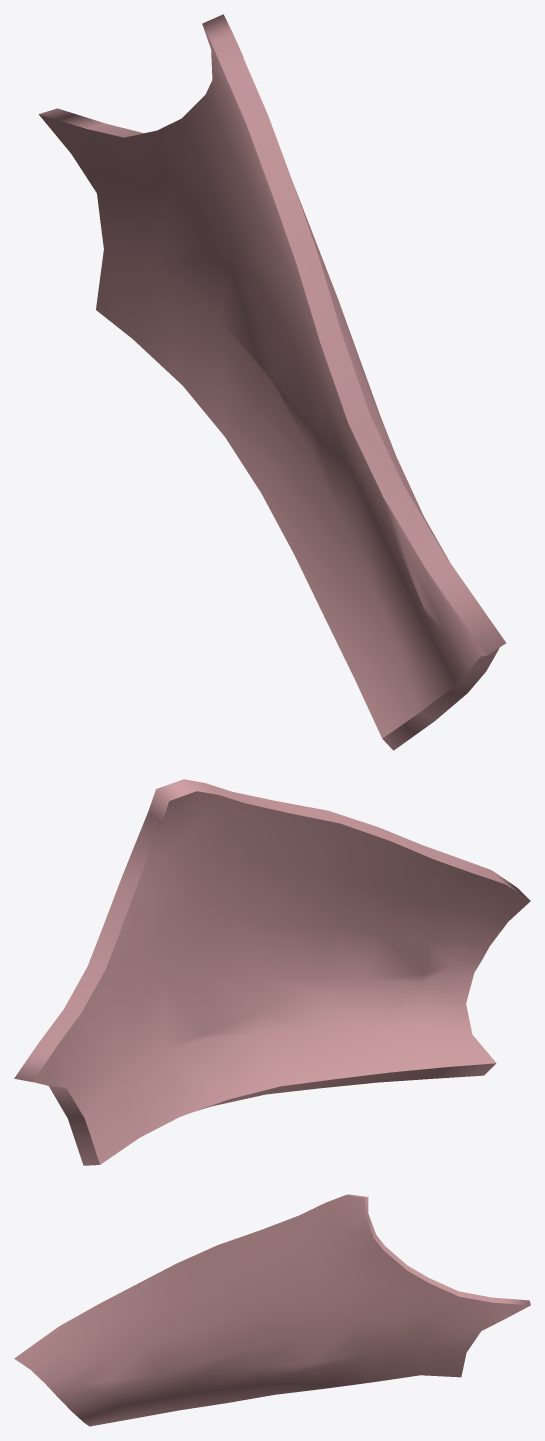
The picture shows the model from 3 angles, top to bottom: view 1: azimuth 30°, elevation 25°; view 2: azimuth 150°, elevation 25°; view 3: azimuth 270°, elevation 25°; orthographic projection. The views are drawn at different scales.
Visible parts, largest first — view 1: ZA_c40b8d10ed6fc170; view 2: ZA_c40b8d10ed6fc170; view 3: ZA_c40b8d10ed6fc170.
Part boxes in pixels (x1,y1,x2,y2): ZA_c40b8d10ed6fc170: (38, 14, 505, 750); ZA_c40b8d10ed6fc170: (14, 779, 530, 1165); ZA_c40b8d10ed6fc170: (14, 1194, 530, 1426).
Size of the model in its own units: 0.0207 by 0.0714 by 0.1315.
